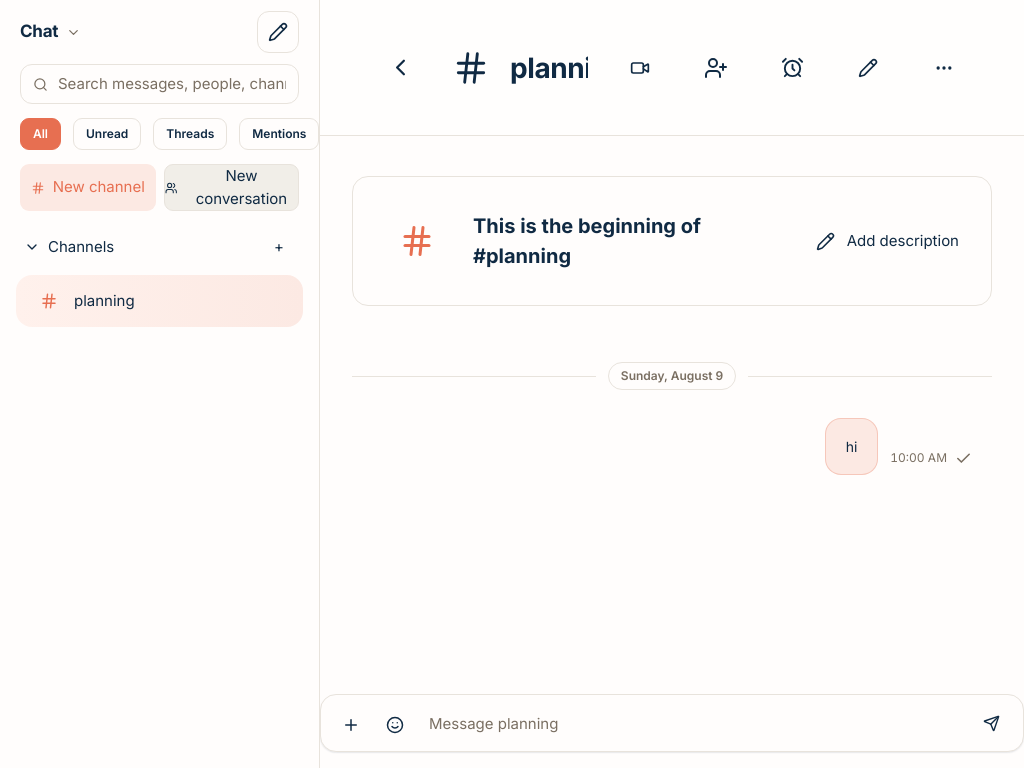
the room in Who-is-here shows its own agent, and who opened it
This screenshot has width=1024, height=768.
What coordinates should you click on to do the following:
click the button "Members & agents"
I would click on:
 (716, 68)
Its box is [684, 36, 748, 100].
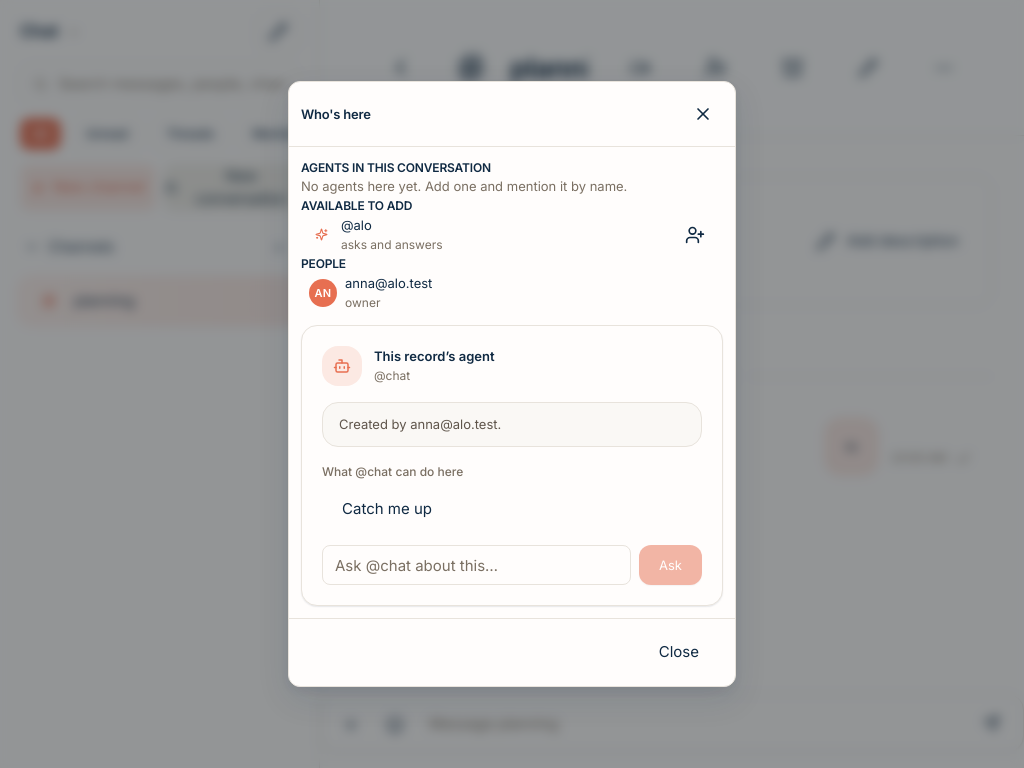
Expected: the text "Catch me up" is shown, [342, 498, 432, 520]
